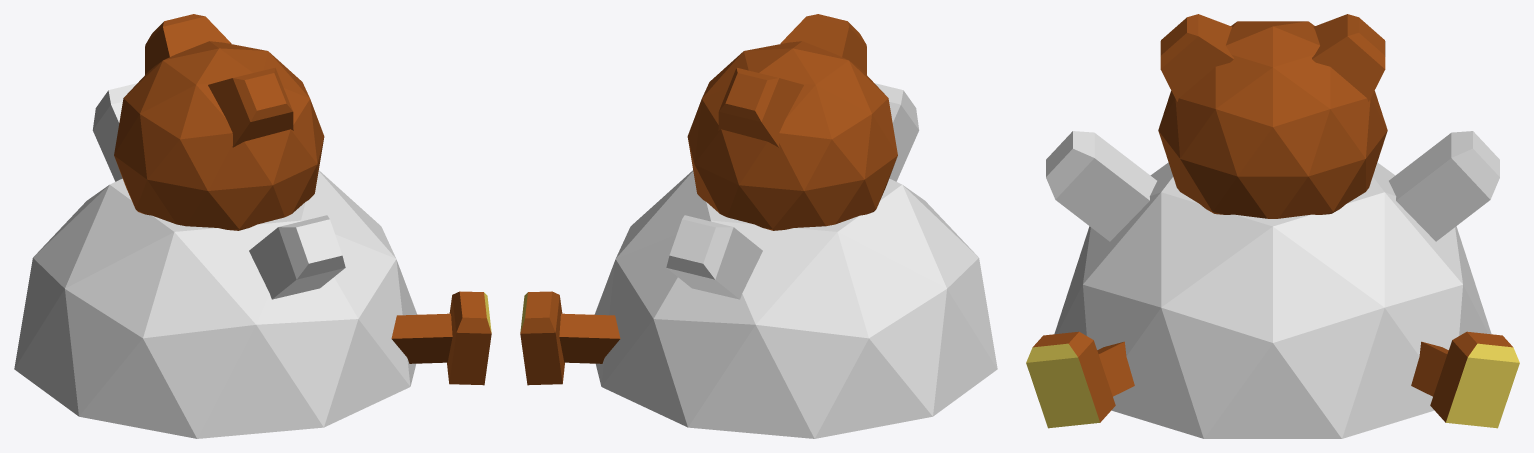
Rendered from baloondome1.fbx.
3 views of the same model, side by side, from view 1: azimuth 30°, elevation 25°; view 2: azimuth 150°, elevation 25°; view 3: azimuth 270°, elevation 25° (orthographic). The views are drawn at different scales.
Visible parts, largest first — view 1: ICO球, ICO球.001, 立方体, 立方体.004, 立方体.002, 立方体.003; view 2: ICO球, ICO球.001, 立方体, 立方体.004, 立方体.002, 立方体.003; view 3: ICO球, ICO球.001, 立方体, 立方体.002, 立方体.004, 立方体.003.
Boxes of the visible parts, x1,y1,x2,y2 form: ICO球: (14, 170, 417, 438); ICO球.001: (114, 41, 324, 230); 立方体: (92, 83, 345, 299); 立方体.004: (145, 14, 293, 147); 立方体.002: (447, 291, 491, 385); 立方体.003: (391, 313, 452, 363); ICO球: (594, 170, 997, 438); ICO球.001: (687, 41, 897, 230); 立方体: (666, 83, 919, 299); 立方体.004: (718, 14, 866, 147); 立方体.002: (520, 291, 564, 385); 立方体.003: (559, 313, 620, 363); ICO球: (1054, 162, 1491, 438); ICO球.001: (1158, 21, 1387, 218); 立方体: (1046, 131, 1499, 241); 立方体.002: (1026, 331, 1519, 428); 立方体.004: (1160, 14, 1385, 101); 立方体.003: (1097, 341, 1448, 396).
Size of the model in its own units: 194 by 160 by 221.
1 material, 1 textured.
